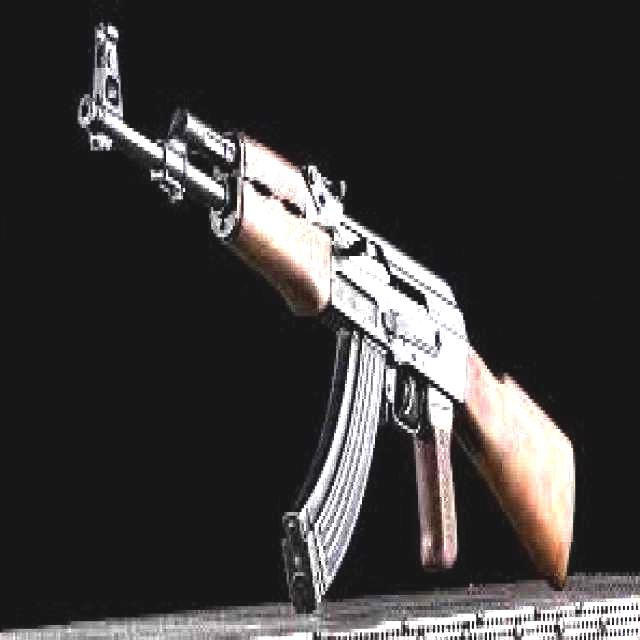ak: (74, 26, 582, 620)
